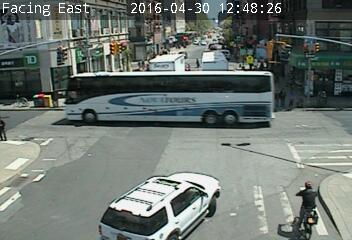neg: (283, 172, 330, 234), (184, 102, 209, 135), (109, 130, 132, 161), (314, 107, 334, 134), (220, 105, 239, 131), (263, 127, 282, 152), (99, 179, 117, 203), (64, 175, 81, 198), (46, 190, 62, 212), (50, 123, 66, 144), (22, 171, 38, 191), (162, 183, 176, 203), (314, 149, 328, 167), (149, 71, 161, 88), (120, 89, 132, 105), (81, 191, 93, 207), (157, 153, 168, 168), (197, 173, 208, 187), (166, 124, 175, 137), (73, 88, 81, 98)
pos: (270, 83, 288, 108), (193, 56, 202, 68), (136, 57, 145, 68)
